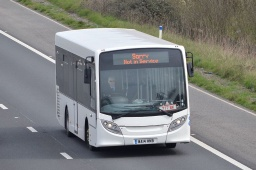bus: (53, 23, 196, 151)
